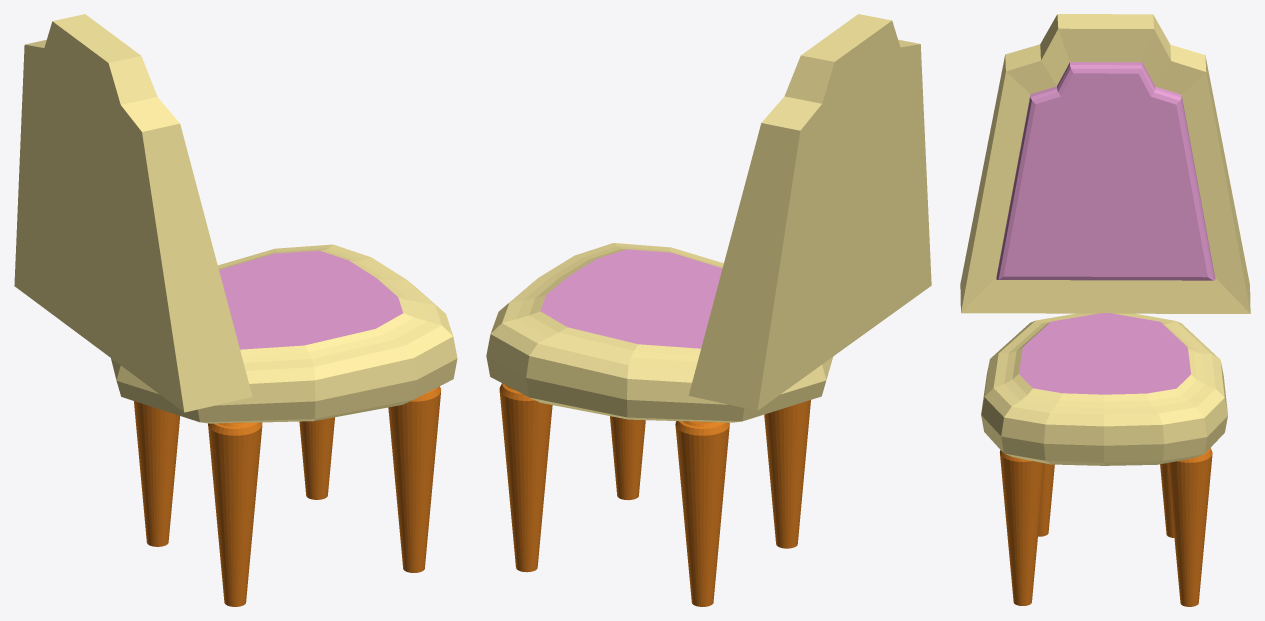
File: chair.fbx
The picture shows the model from 3 angles, left to right: view 1: azimuth 30°, elevation 25°; view 2: azimuth 150°, elevation 25°; view 3: azimuth 270°, elevation 25°; orthographic projection. The views are drawn at different scales.
Visible parts, largest first — view 1: che5; view 2: che5; view 3: che5.
Boxes of the visible parts, bbox=[...] form: che5: bbox=[14, 14, 457, 606]; che5: bbox=[486, 14, 931, 606]; che5: bbox=[960, 14, 1250, 606].
Size of the model in its own units: 7.24 by 11.44 by 6.39.
